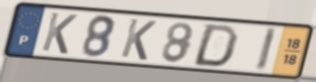8: (80, 14, 117, 59), (159, 21, 195, 64)
D: (190, 23, 241, 69)
I: (254, 26, 280, 73)
K: (118, 17, 159, 63), (39, 11, 80, 56)
